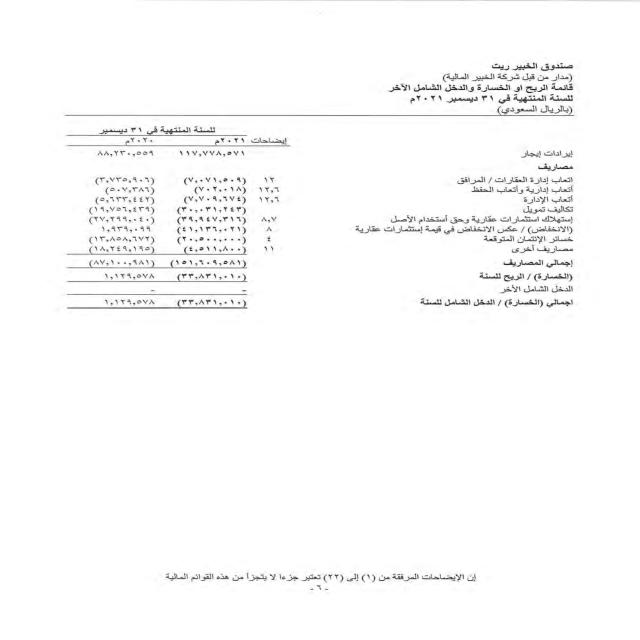financial_sheets: (372, 82, 578, 95)
table: (50, 113, 288, 334)
